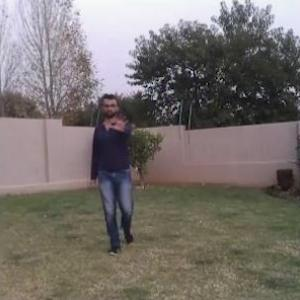follow_hand: (107, 106, 133, 132)
